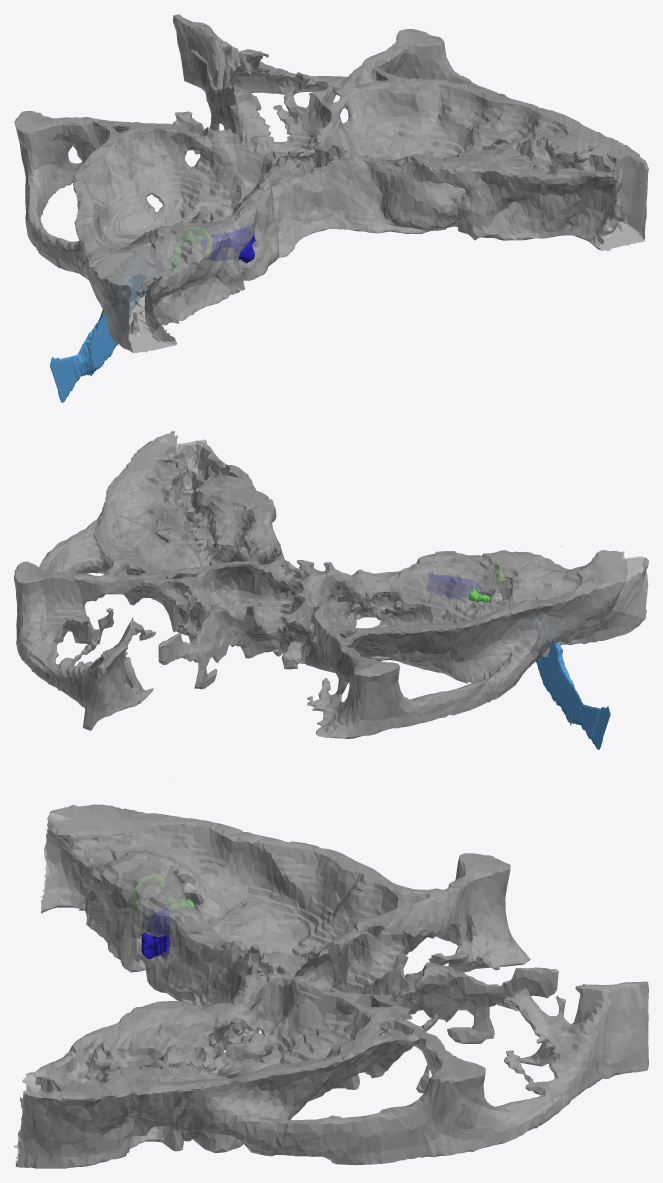
Rendered from SecondInnearEarDecimate4.fbx.
3 renders of one model, top to bottom at view 1: azimuth 30°, elevation 25°; view 2: azimuth 150°, elevation 25°; view 3: azimuth 270°, elevation 25°, orthographic. The views are drawn at different scales.
Parts seen in each view (by area): view 1: Skull-base-model-copy-segment, External-Auditory-Canal-Model, Internal-Auditory-Canal-Model; view 2: Skull-base-model-copy-segment, External-Auditory-Canal-Model, Internal-Auditory-Canal-Model; view 3: Skull-base-model-copy-segment, Internal-Auditory-Canal-Model.
Part boxes in pixels (x1,y1,x2,y2): Skull-base-model-copy-segment: (14, 14, 648, 353); External-Auditory-Canal-Model: (50, 193, 153, 402); Internal-Auditory-Canal-Model: (200, 224, 256, 263); Skull-base-model-copy-segment: (14, 431, 648, 738); External-Auditory-Canal-Model: (536, 546, 610, 749); Internal-Auditory-Canal-Model: (426, 572, 481, 605); Skull-base-model-copy-segment: (14, 804, 648, 1168); Internal-Auditory-Canal-Model: (141, 907, 169, 958).
Bounding box in the file's own units: 13842 × 5013 × 12466.
